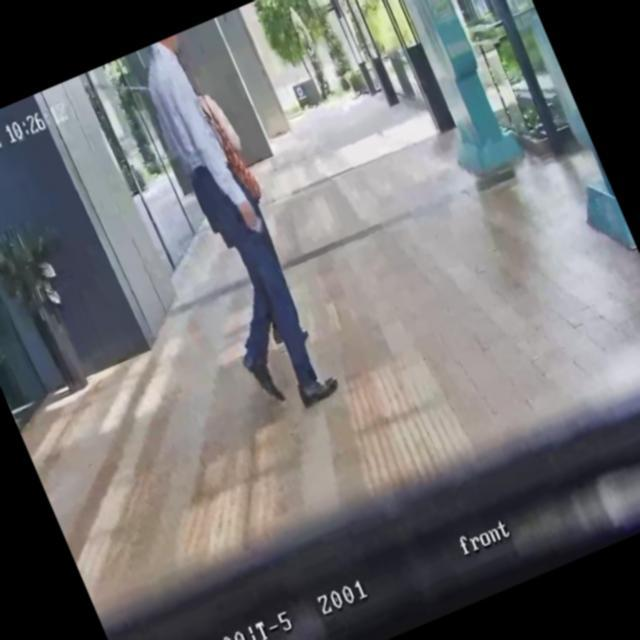person: (114, 26, 348, 425)
